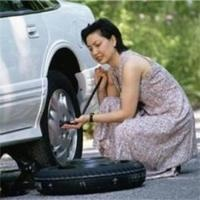person without safety: (58, 17, 181, 161)
